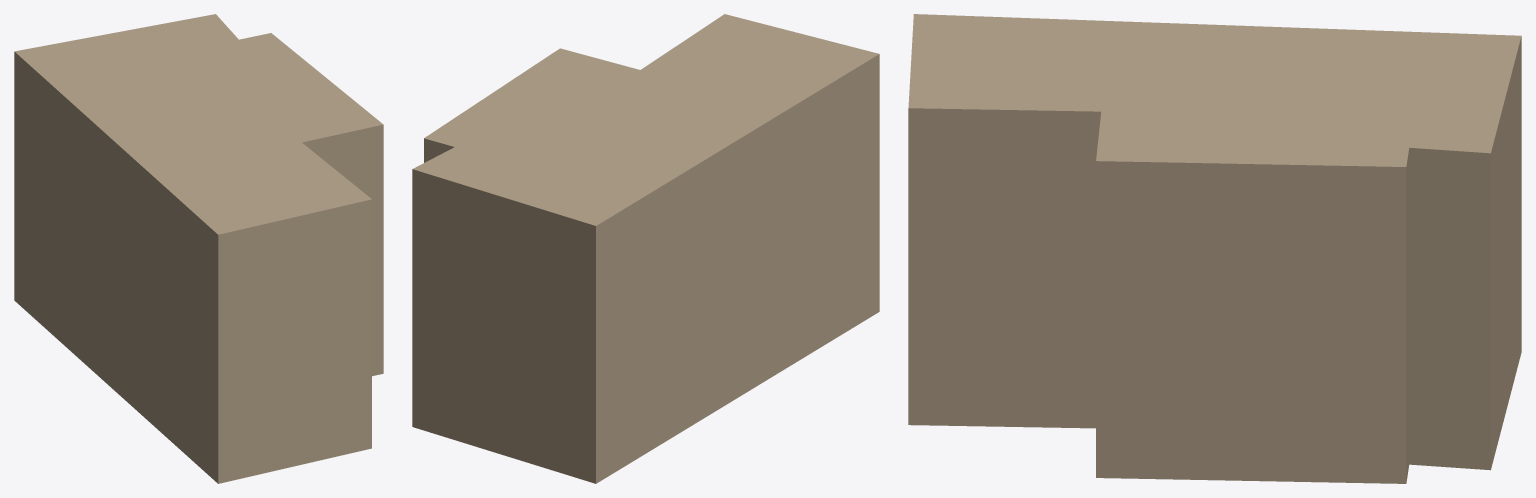
The model's file is bld_98640380.dae.
3 renders of one model, left to right at view 1: azimuth 30°, elevation 25°; view 2: azimuth 150°, elevation 25°; view 3: azimuth 270°, elevation 25°, orthographic. The views are drawn at different scales.
Visible parts, largest first — view 1: Barber Time; view 2: Barber Time; view 3: Barber Time.
Part boxes in pixels (x1,y1,x2,y2): Barber Time: (14,14,383,483); Barber Time: (412,14,879,483); Barber Time: (908,14,1521,483).
Size of the model in its own units: 8.29 by 14.03 by 8.
